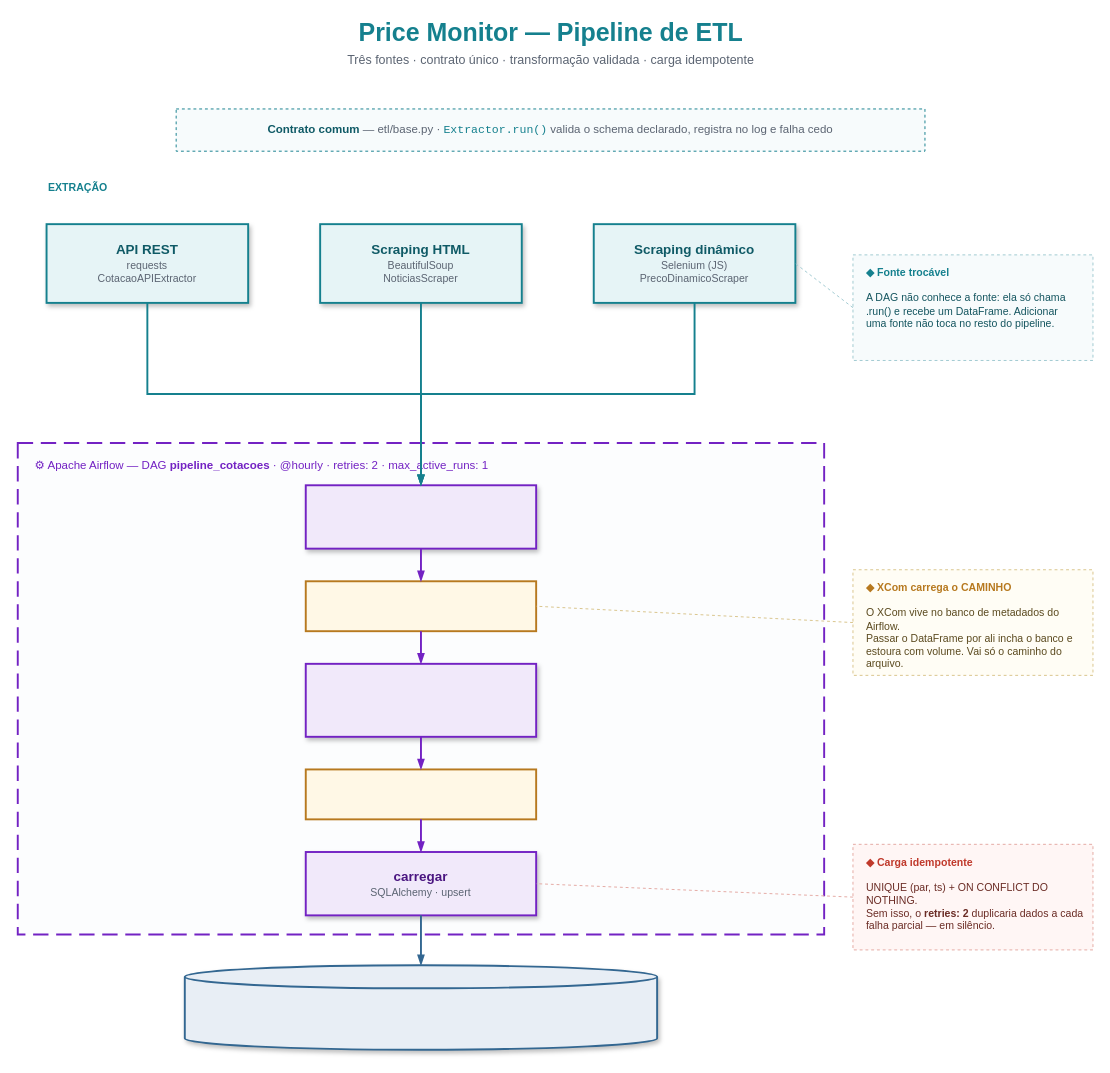
This 1110x1073 diagram has some shape labels left out. The centre of each missing label's shape, as x and y in pixels:
"extrair PythonOperator · chama .run()" goes at pixel 421 518.
"PostgreSQL tabela cotacoes · UNIQUE (par, ts)" goes at pixel 421 1008.
"staging/clean_{ts}.parquet tipos preservados (Parquet, não JSON)" goes at pixel 420 794.
"staging/raw_{ts}.parquet determinístico por execução" goes at pixel 420 606.
"transformar pandas · tipagem e deduplicação portão de qualidade (QualidadeError)" goes at pixel 421 701.
